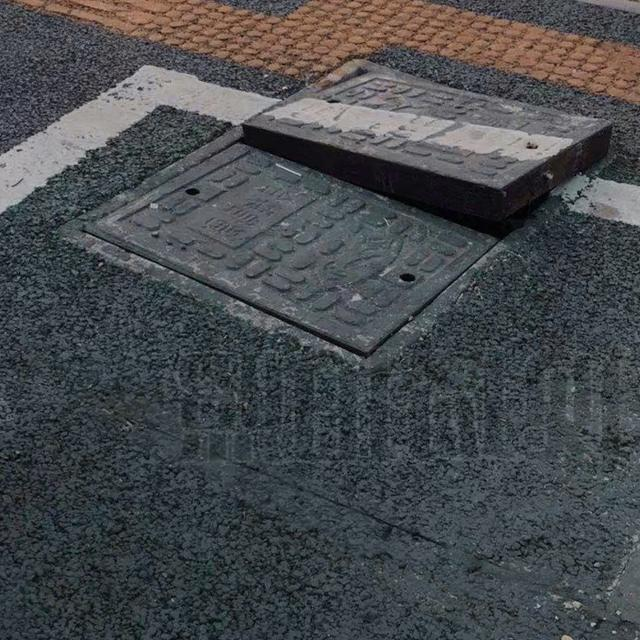uncovered: (60, 61, 624, 367)
